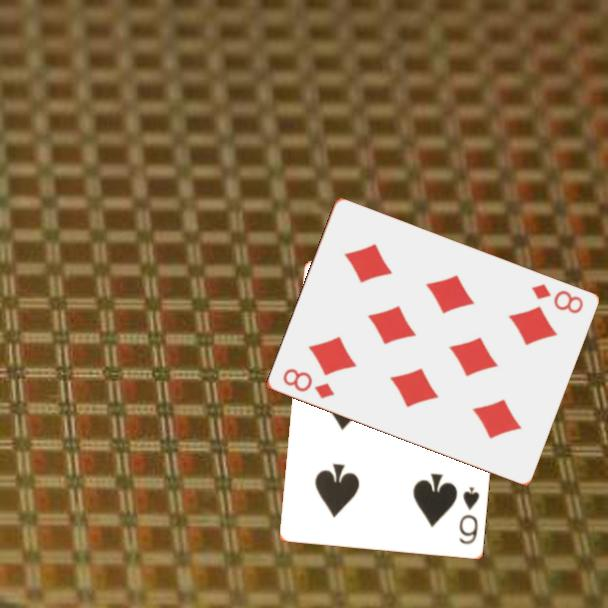d08: (279, 365, 337, 402), (527, 281, 586, 317)
s06: (456, 484, 483, 548)
